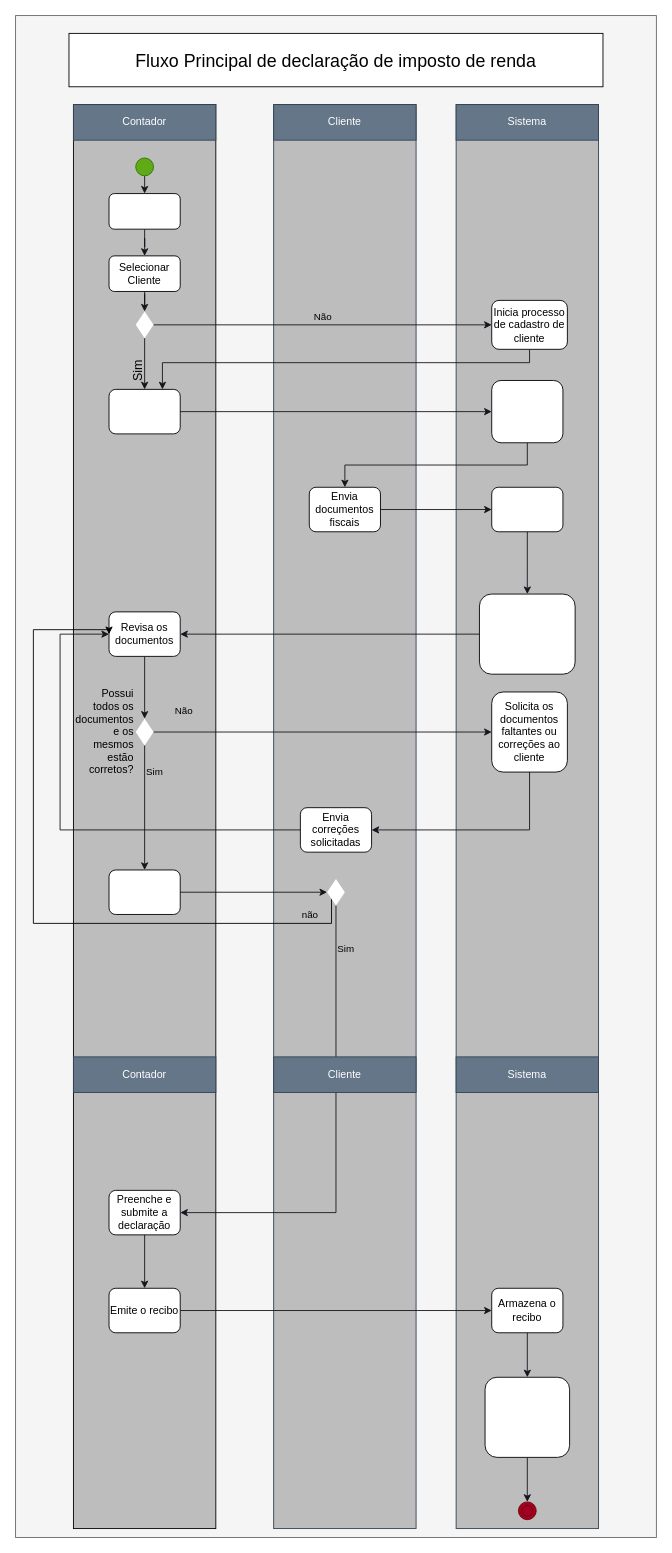
The diagram is 672 pixels wide and 1553 high, and some of its shapes have lost their labels. Here are the shapes that lost their labels. From the top down, the box of each, then its label:
(108, 193, 180, 229): Iniciar nova declaração
(135, 311, 153, 338): Usuário cadastrado?
(108, 388, 180, 434): Solicita documentos fiscais
(491, 380, 563, 443): Notifica o cliente pedindo os documentos
(491, 486, 563, 532): Armazena os documentos
(479, 593, 575, 674): Notifica o contador que os documentos estão disponíveis
(108, 869, 180, 914): Solicita aprovação do cliente
(327, 878, 344, 905): O cliente aprova?
(484, 1376, 570, 1457): Notifica o cliente e altera o estado da declaração
